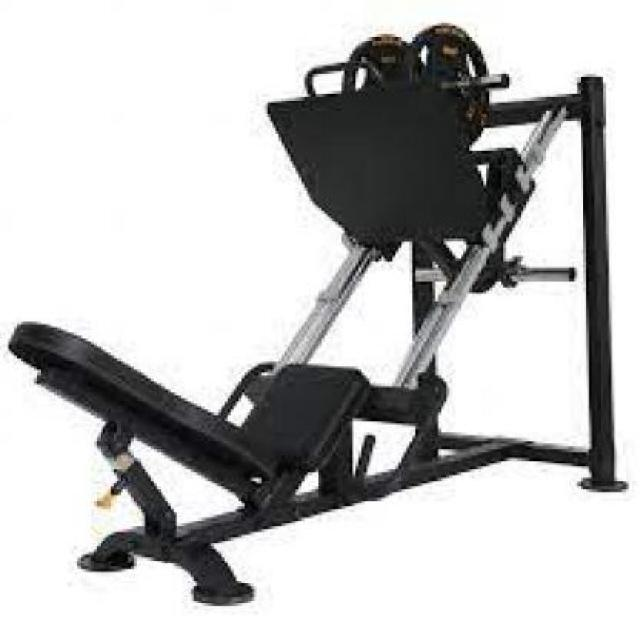leg press: (7, 23, 640, 606)
